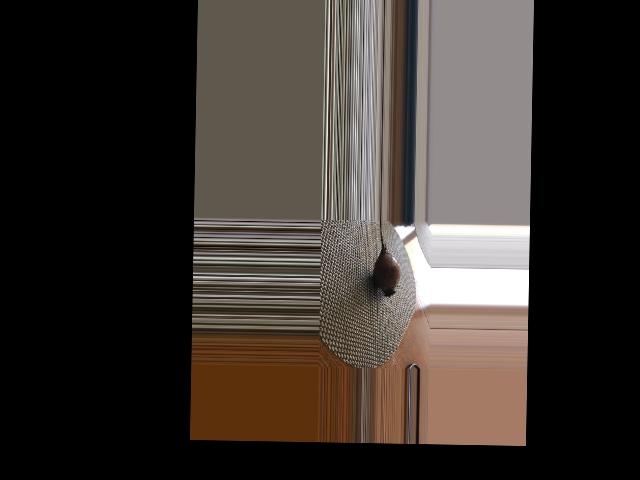beet: (373, 220, 401, 297)
